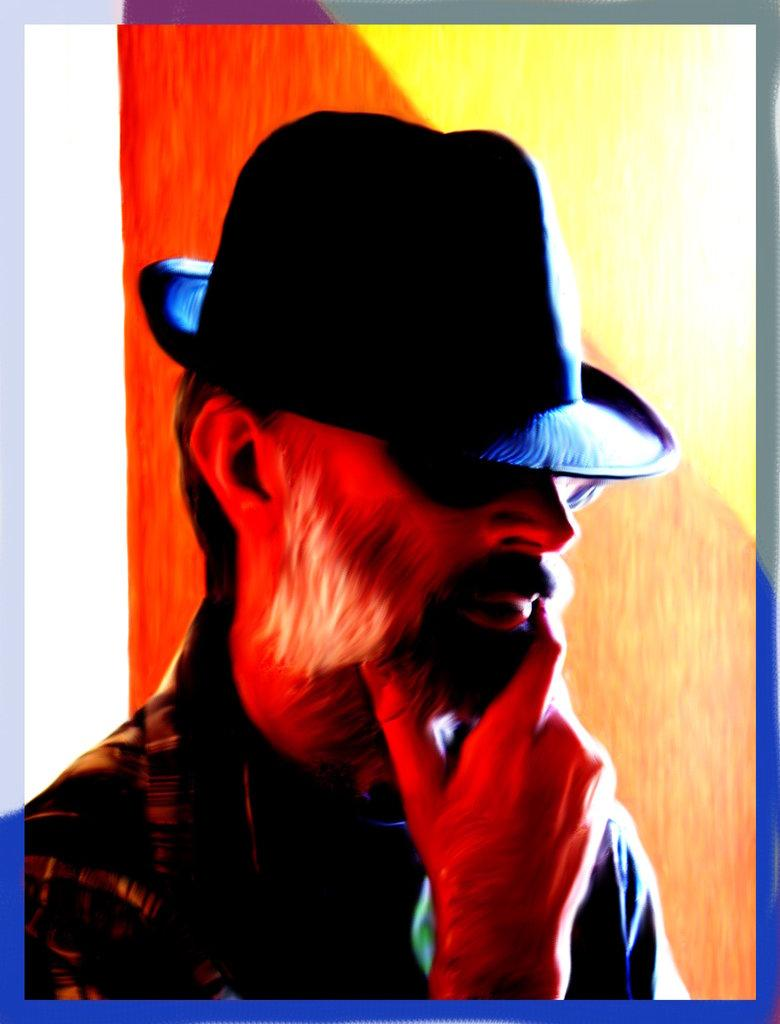Hat: (124, 110, 658, 528)
